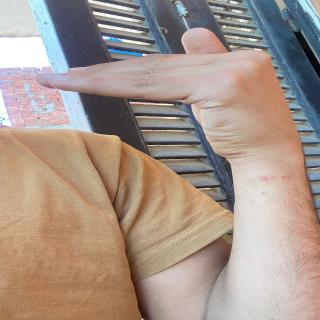KHAA: (26, 24, 320, 165)
